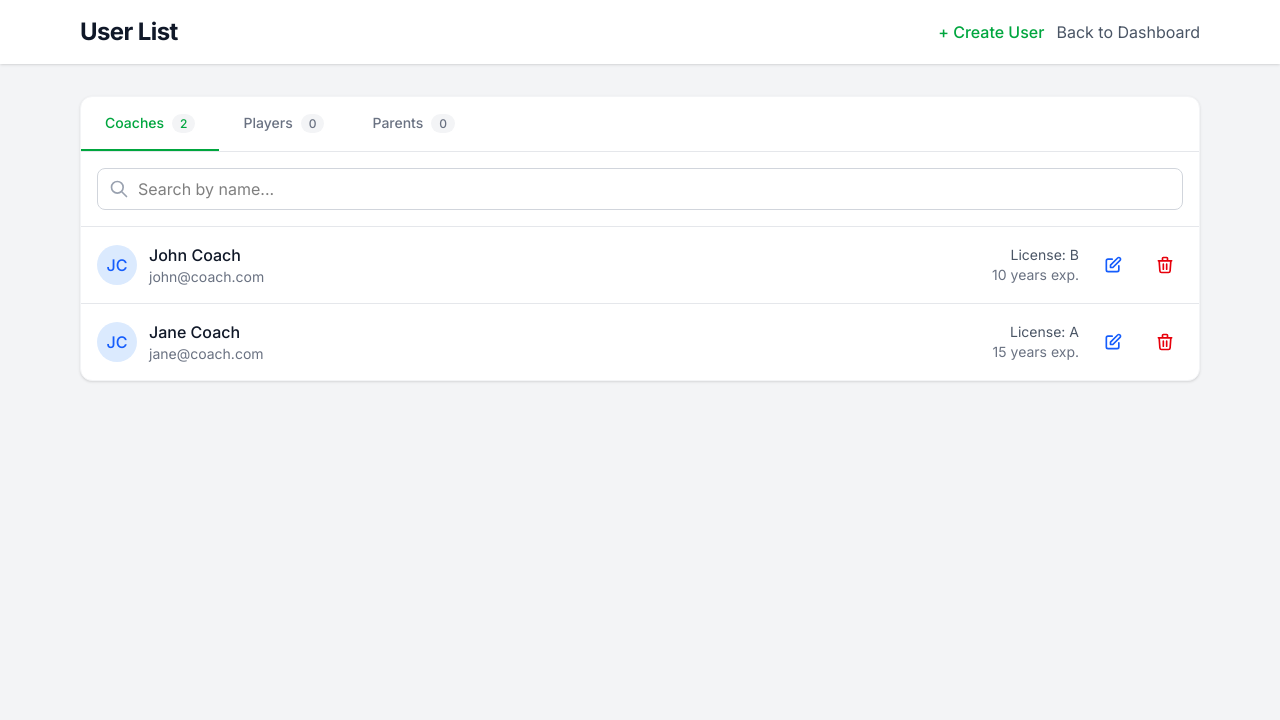
Scenario: UserListPage › Edit functionality › should open edit modal when edit button clicked
The image size is (1280, 720).
Expected: the text "John Coach" is shown, [149,245,241,265]
Click the button titled "Edit coach" in the row of "10".
click(1113, 265)  # box [1095,247,1131,283]
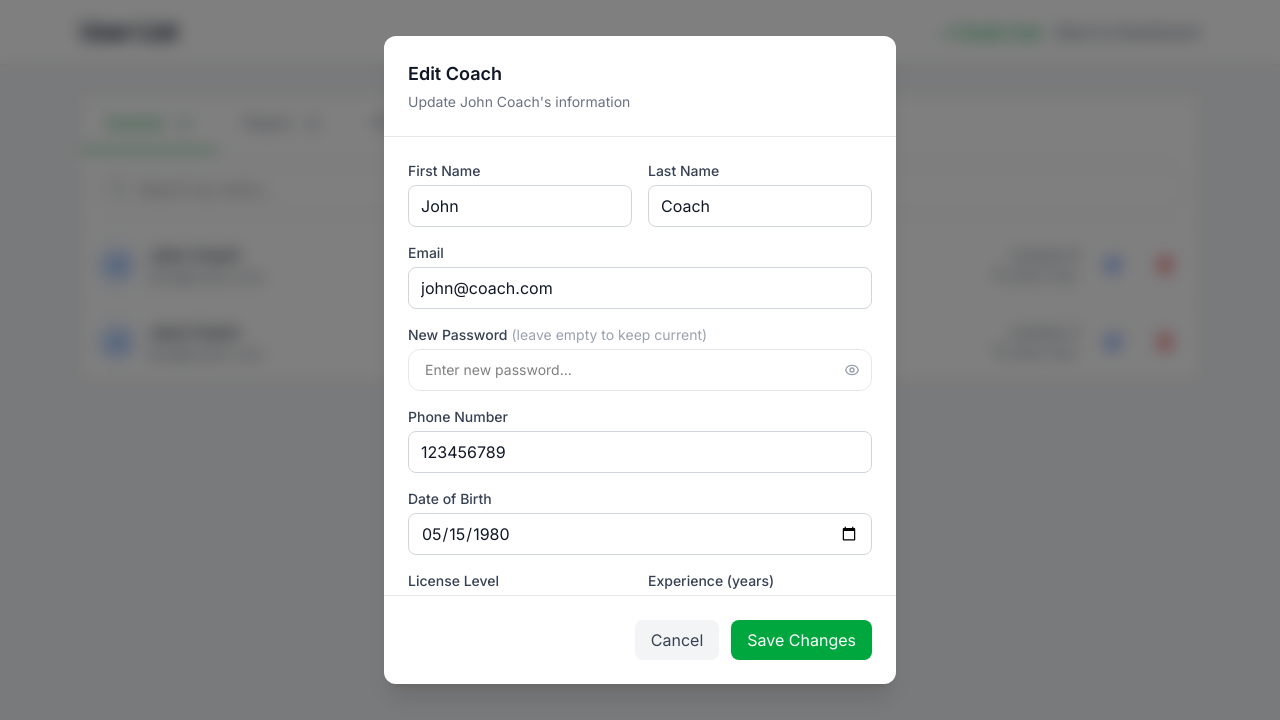
Now the heading "Edit Coach" is shown, box [408,63,502,84]
